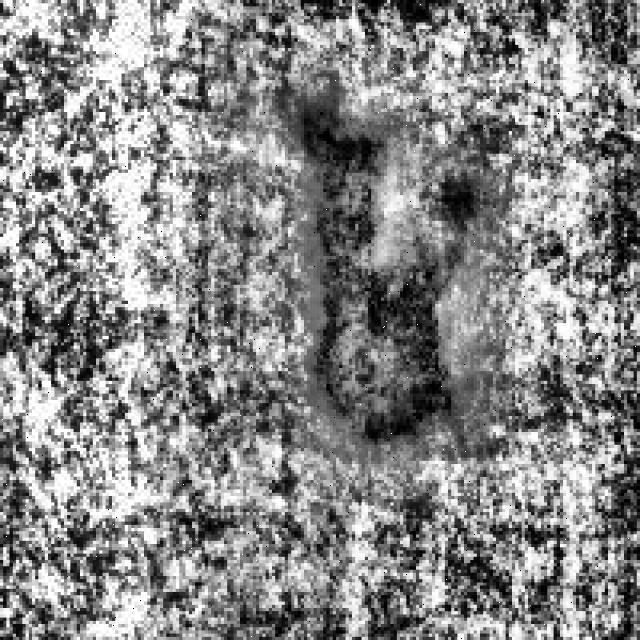Scratches: (294, 90, 480, 448)
